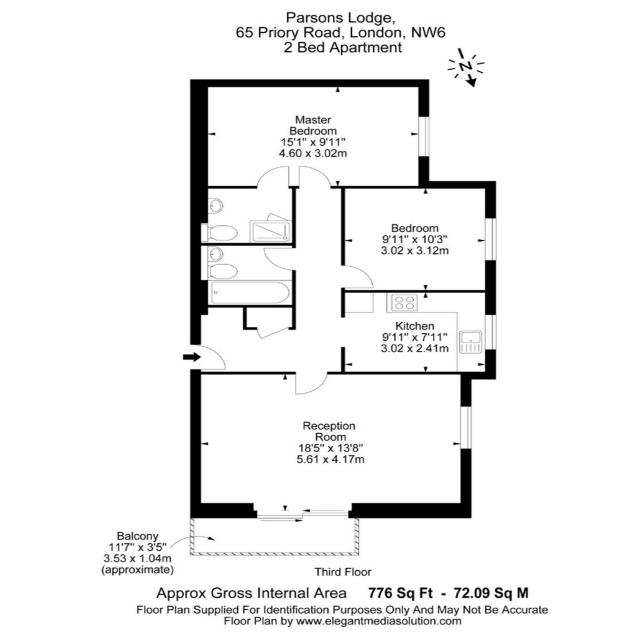DOOR: (190, 344, 228, 371), (295, 163, 336, 188), (341, 263, 377, 290), (260, 247, 297, 273), (254, 164, 292, 189), (293, 371, 330, 396)
ROOM: (190, 370, 475, 518), (190, 79, 429, 189), (341, 181, 496, 293)
WINDOW: (482, 216, 499, 262), (458, 404, 474, 451), (416, 115, 433, 158), (483, 313, 498, 352)
